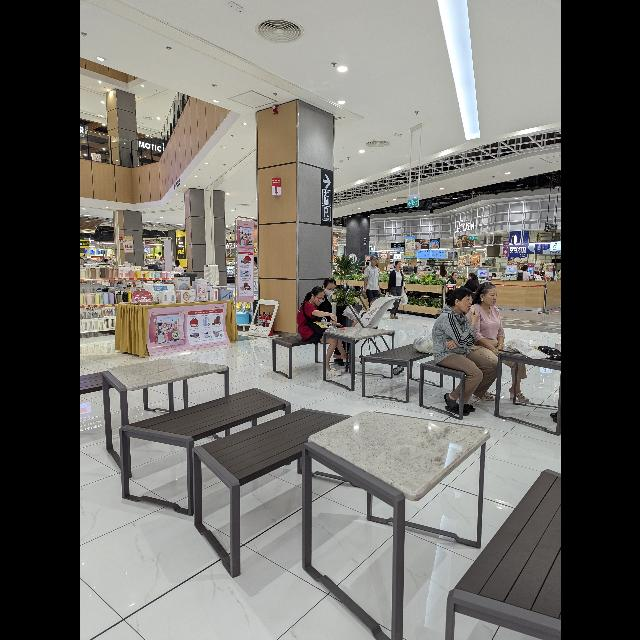exit: (407, 198, 418, 208)
